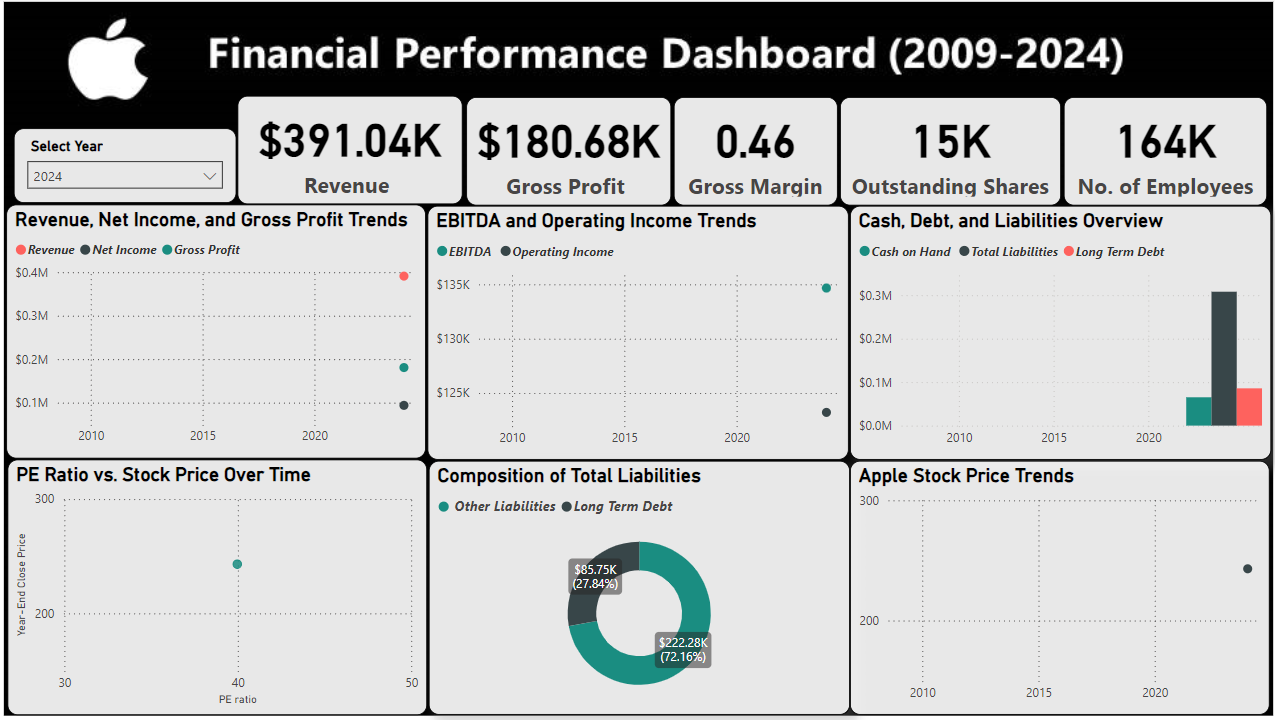

This screenshot's page, from the dashboard's own definition file:
{"tool":"powerbi","page":{"name":"Page 1","canvas":[1280,720],"ordinal":0},"visuals":[{"type":"image","box":[0,0,1280.3,720.4],"z":500},{"type":"lineChart","title":"Revenue, Net Income, and Gross Profit Trends","fields":{"Category":["Apple finance.year"],"Y":["Sum(Apple finance.Revenue (millions))","Sum(Apple finance.Net Income (millions))","Sum(Apple finance.Gross Profit (millions))"]},"box":[11.2,206.5,418,253],"z":1000},{"type":"lineChart","title":"EBITDA and Operating Income Trends","fields":{"Category":["Apple finance.year"],"Y":["Sum(Apple finance.EBITDA (millions))","Sum(Apple finance.Operating Income (millions))"]},"box":[430.4,207.7,419.2,253],"z":2000},{"type":"clusteredColumnChart","title":"Cash, Debt, and Liabilities Overview","fields":{"Category":["Apple finance.year"],"Y":["Sum(Apple finance.Cash on Hand (millions))","Sum(Apple finance.Total Liabilities (millions))","Sum(Apple finance.Long Term Debt (millions))"]},"box":[850.9,207.7,419.2,253],"z":3000},{"type":"donutChart","title":"Composition of Total Liabilities","fields":{"Y":["Sum(Apple finance.Other Liabilities)","Sum(Apple finance.Long Term Debt (millions))"]},"box":[431.7,461.5,419.2,252.5],"z":4000},{"type":"lineChart","title":"Apple Stock Price Trends","fields":{"Category":["Apple finance.year"],"Y":["Sum(Apple finance.Year Close Price)"]},"box":[850.9,461.5,418,253],"z":5000},{"type":"card","fields":{"Values":["Sum(Apple finance.Revenue (millions))"]},"box":[241.3,98.3,223.9,108.2],"z":6000},{"type":"card","fields":{"Values":["Sum(Apple finance.Gross Profit (millions))"]},"box":[469,99.5,204,108.2],"z":7000},{"type":"card","fields":{"Values":["Sum(Apple finance.Shares Outstanding)"]},"box":[840.9,99.5,220.2,108.2],"z":8000},{"type":"card","fields":{"Values":["Sum(Apple finance.Gross Margin)"]},"box":[675.5,99.5,163,108.2],"z":9000},{"type":"slicer","fields":{"Values":["Apple finance.year"]},"box":[18.7,130.6,221.4,74.6],"z":10000},{"type":"card","fields":{"Values":["Sum(Apple finance.Employees)"]},"box":[1063.6,99.5,202.8,108.2],"z":11000},{"type":"scatterChart","title":"PE Ratio vs. Stock Price Over Time","fields":{"X":["Sum(Apple finance.PE ratio)"],"Y":["Sum(Apple finance.Year Close Price)"],"Category":["Apple finance.year"]},"box":[12.4,460.3,418,254],"z":12000}]}

Visuals, with their boxes in screenshot pixels (x1, y1, x2, y2), scaled from the page's 1280x720 canvas onto the 1275x720 screenshot:
image: 0/0/1274/719
"Revenue, Net Income, and Gross Profit Trends" lineChart: 11/206/428/460
"EBITDA and Operating Income Trends" lineChart: 429/208/846/461
"Cash, Debt, and Liabilities Overview" clusteredColumnChart: 848/208/1265/461
"Composition of Total Liabilities" donutChart: 430/462/848/714
"Apple Stock Price Trends" lineChart: 848/462/1264/714
card - Sum(Apple finance.Revenue (millions)): 240/98/463/206
card - Sum(Apple finance.Gross Profit (millions)): 467/100/670/208
card - Sum(Apple finance.Shares Outstanding): 838/100/1057/208
card - Sum(Apple finance.Gross Margin): 673/100/835/208
slicer - Apple finance.year: 19/131/239/205
card - Sum(Apple finance.Employees): 1059/100/1261/208
"PE Ratio vs. Stock Price Over Time" scatterChart: 12/460/429/714
